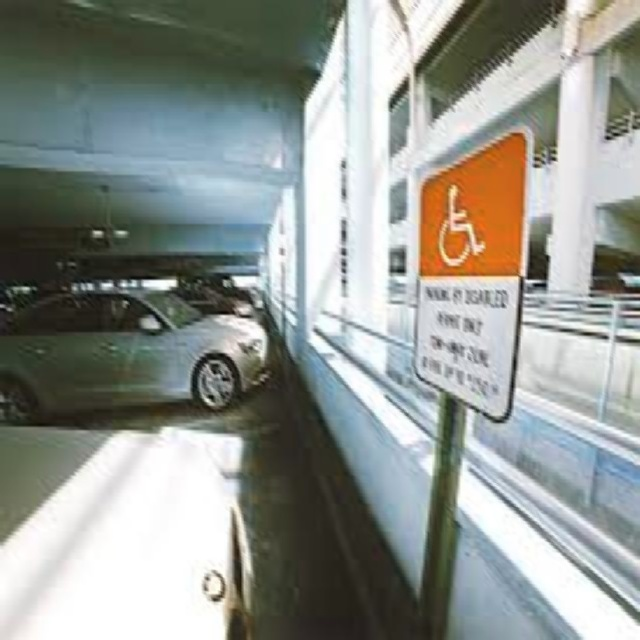ISA: (438, 184, 485, 269)
